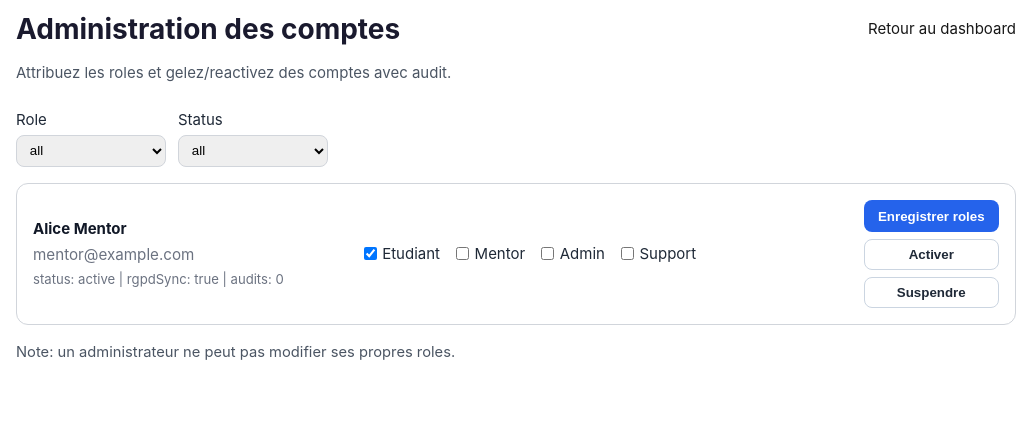
AdminUsersManager › allows admin to update another user roles and shows success feedback
Expected: the text "Alice Mentor" is shown, x1=33 y1=219 x2=127 y2=238
Click the checkbox labelled "mentor". click: (462, 254)
box: x1=456 y1=247 x2=469 y2=260
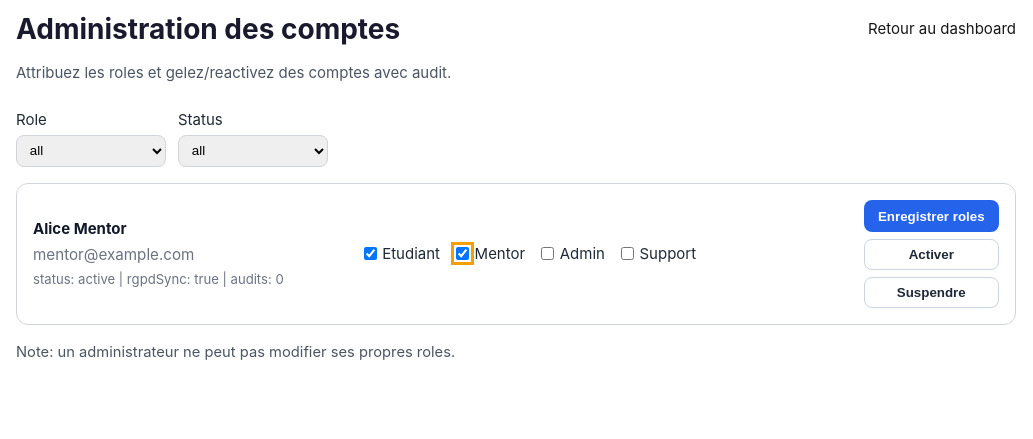
Click the button "Enregistrer roles". click: (931, 216)
box: x1=864 y1=200 x2=999 y2=232
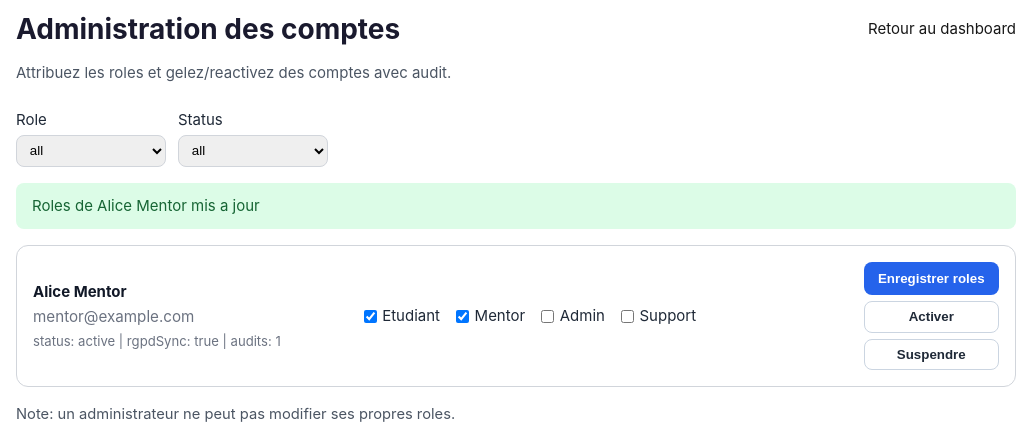
Result: the text "Roles de Alice Mentor mis a jour" is shown at x1=16 y1=183 x2=1016 y2=229
